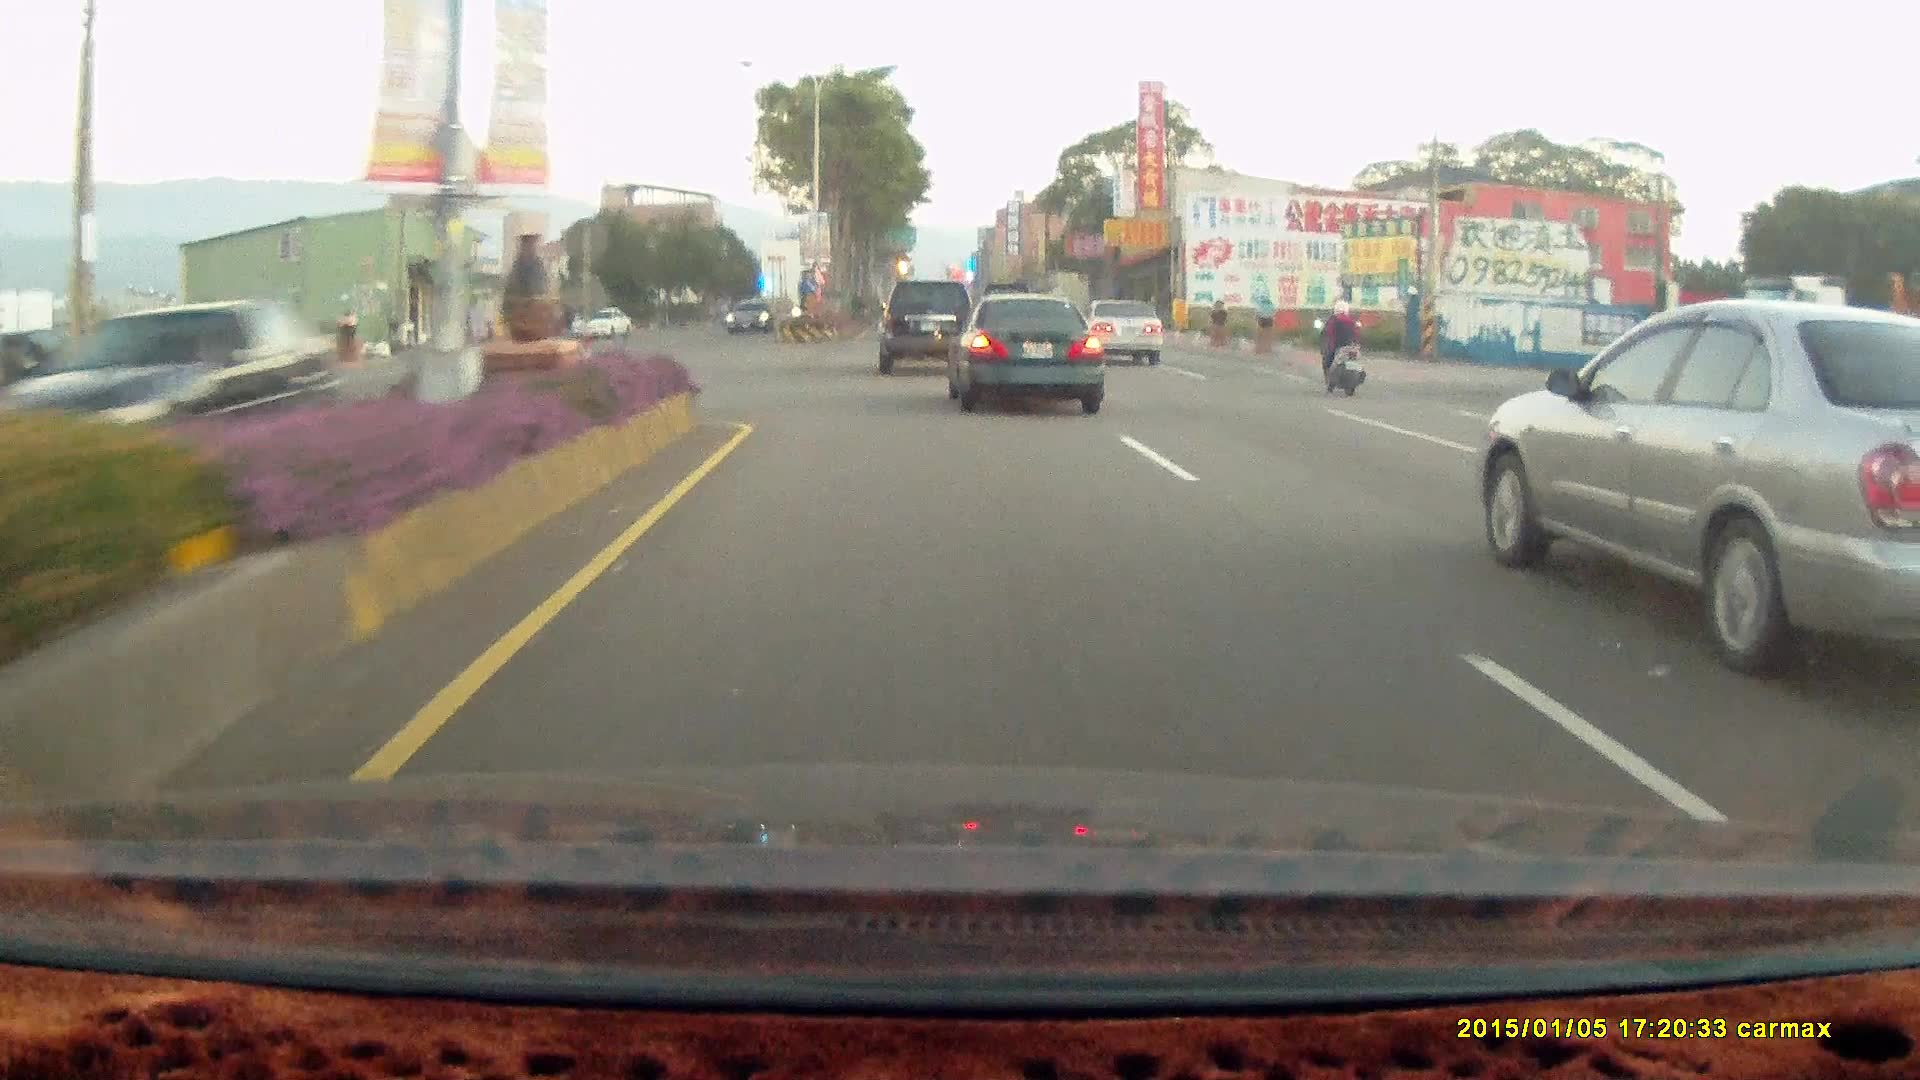rider: (1305, 288, 1376, 406), (1309, 297, 1365, 395)
vehicle: (1473, 304, 1920, 676), (0, 296, 343, 505), (935, 292, 1096, 411), (954, 296, 1113, 416), (880, 278, 981, 375), (876, 280, 975, 376), (1078, 297, 1165, 367), (1078, 296, 1163, 365), (572, 306, 635, 342), (569, 306, 631, 340), (724, 298, 776, 338), (723, 298, 773, 334)
